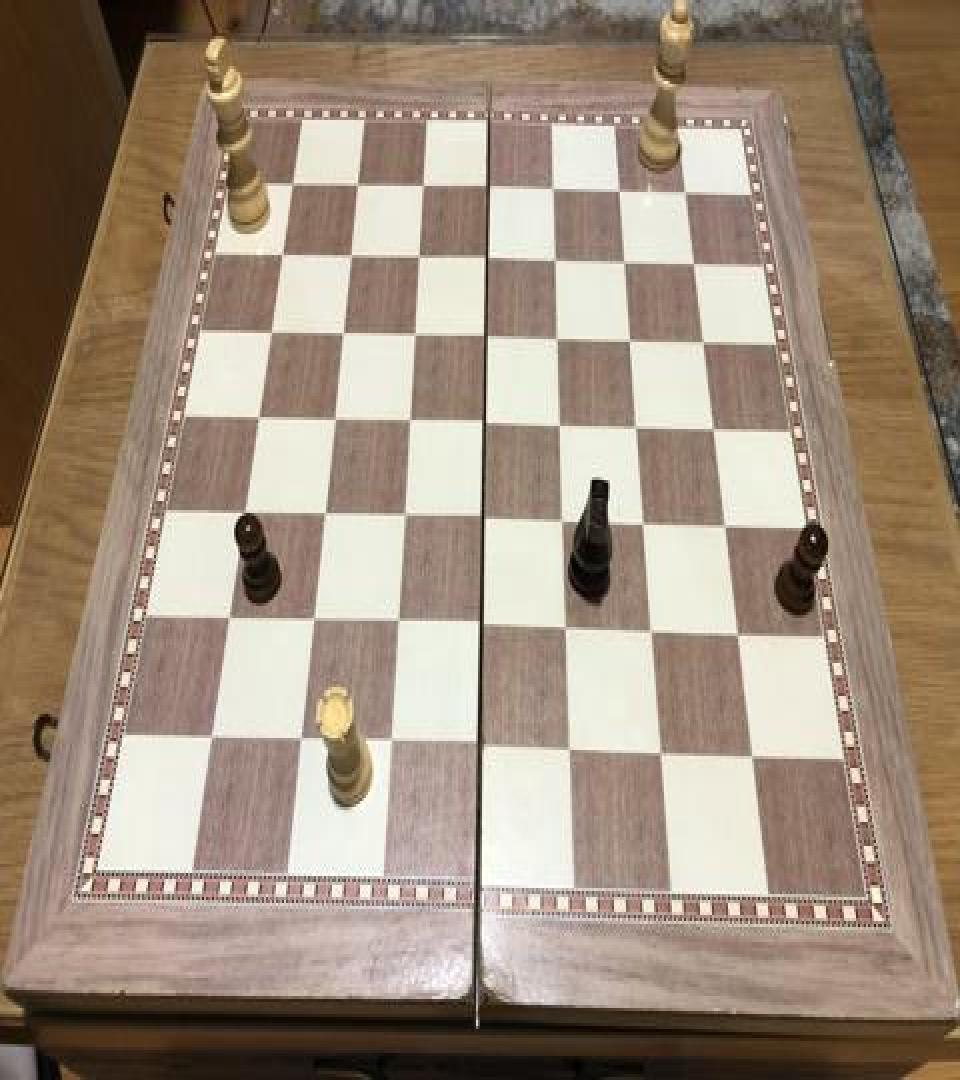xcorner: (217, 601, 241, 638), (740, 733, 764, 770), (468, 727, 492, 764), (674, 176, 698, 212), (608, 174, 632, 210), (542, 174, 566, 210), (282, 171, 306, 207), (682, 246, 706, 282), (613, 244, 637, 280), (544, 244, 568, 280), (476, 243, 500, 279), (407, 243, 431, 279), (339, 242, 363, 278), (271, 242, 295, 278), (692, 324, 716, 360), (619, 322, 643, 358), (547, 321, 571, 357), (474, 321, 498, 357), (403, 320, 427, 356), (331, 318, 355, 354), (260, 318, 284, 354), (702, 410, 726, 446), (625, 408, 649, 444), (549, 408, 573, 444), (473, 406, 497, 442), (397, 405, 421, 441), (322, 404, 346, 440), (247, 402, 271, 438), (713, 506, 737, 542), (632, 504, 656, 540), (552, 502, 576, 538), (472, 501, 496, 537), (392, 500, 416, 536), (312, 498, 336, 534), (233, 496, 257, 532), (726, 614, 750, 650), (640, 612, 664, 648), (555, 609, 579, 645), (470, 608, 494, 644), (385, 606, 409, 642), (301, 604, 325, 640), (649, 732, 673, 768), (558, 729, 582, 765), (378, 726, 402, 762), (288, 723, 312, 759), (199, 722, 223, 758), (477, 173, 501, 208), (412, 173, 436, 208), (347, 173, 371, 208)
